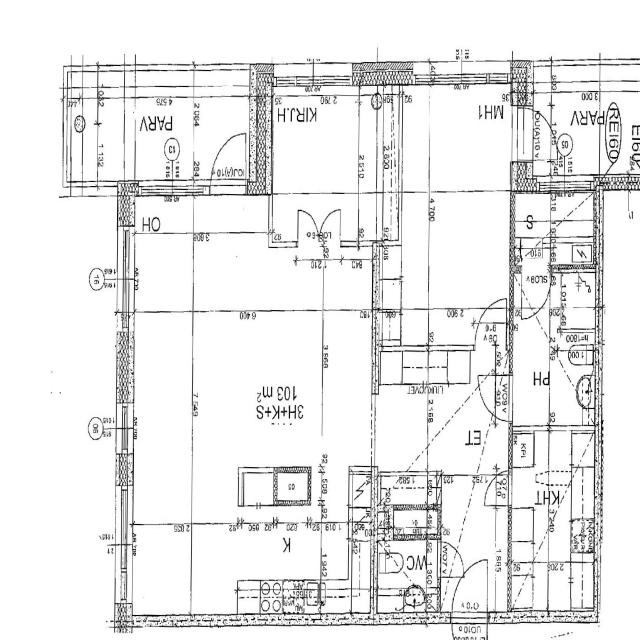door: (509, 108, 568, 161), (451, 556, 489, 626), (210, 125, 247, 196), (476, 372, 514, 422), (520, 264, 552, 320), (474, 296, 506, 351), (484, 469, 515, 506), (436, 542, 466, 578), (318, 209, 340, 247), (297, 209, 318, 247)
